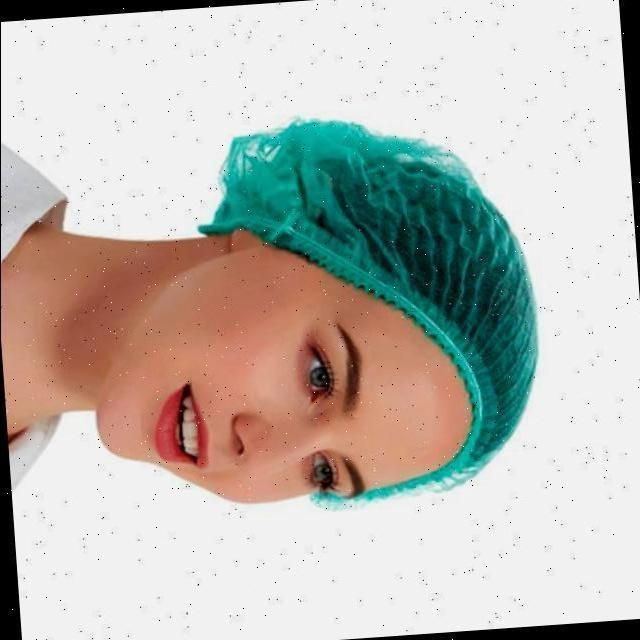gloves: (288, 138, 543, 476)
no_hairnet: (120, 347, 303, 490)
